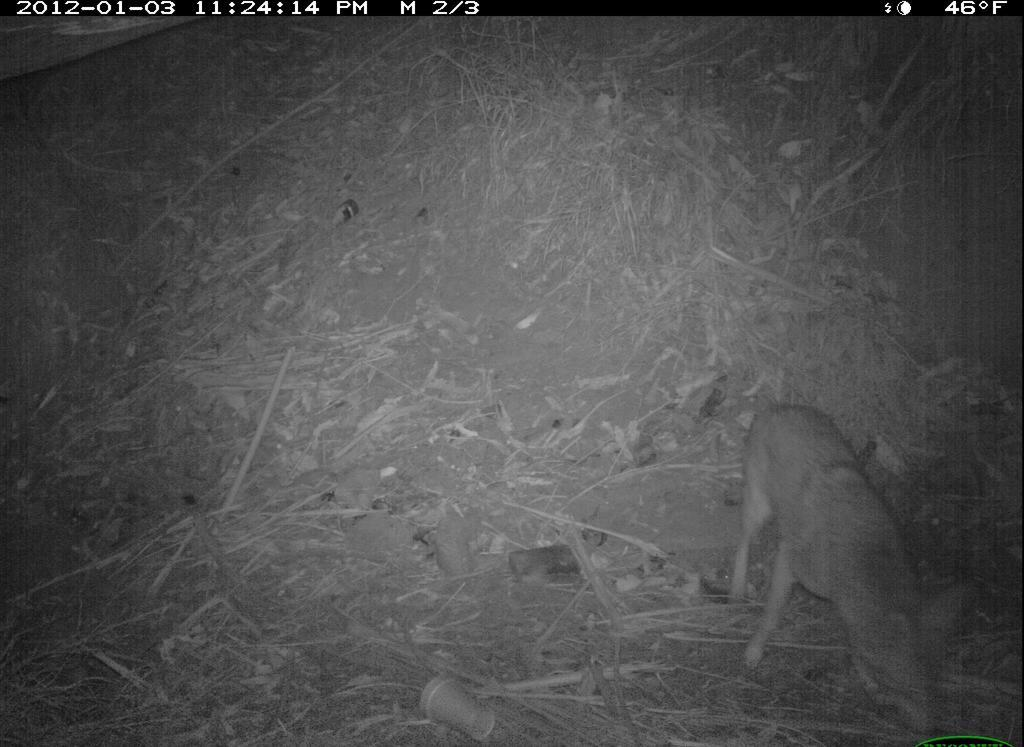coyote: (701, 387, 1001, 745)
